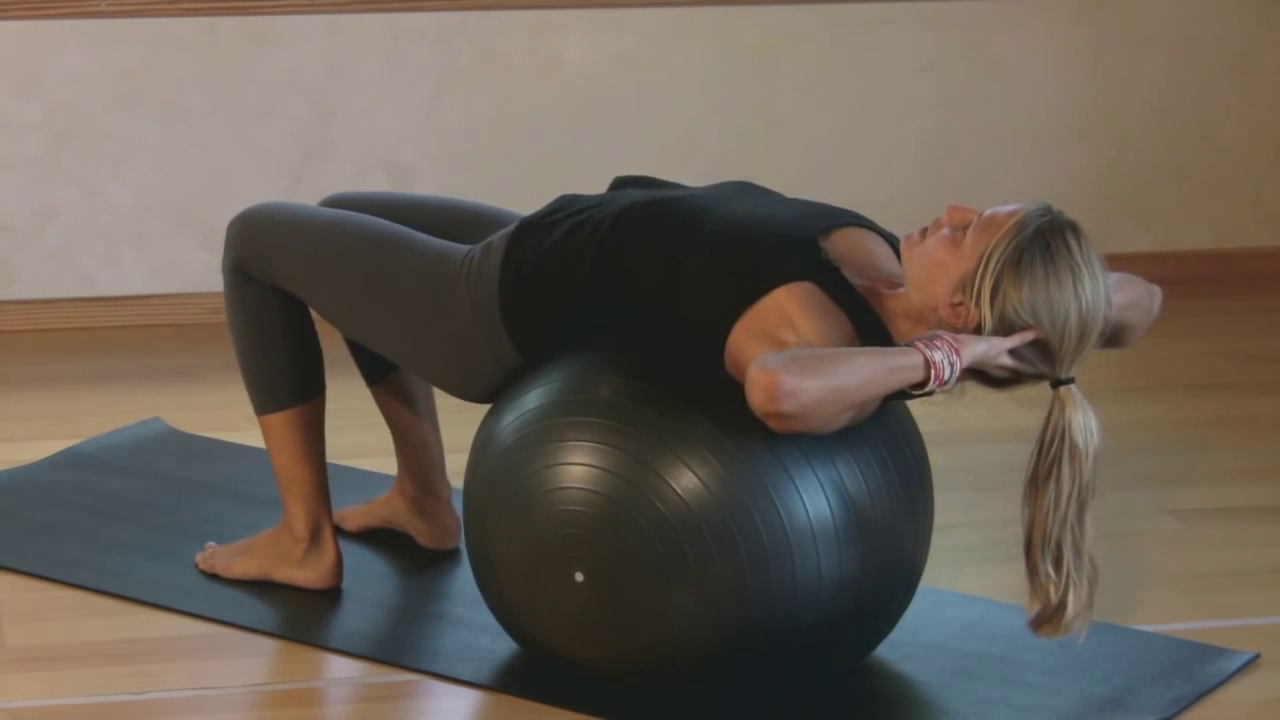yogaball: (457, 323, 947, 702)
